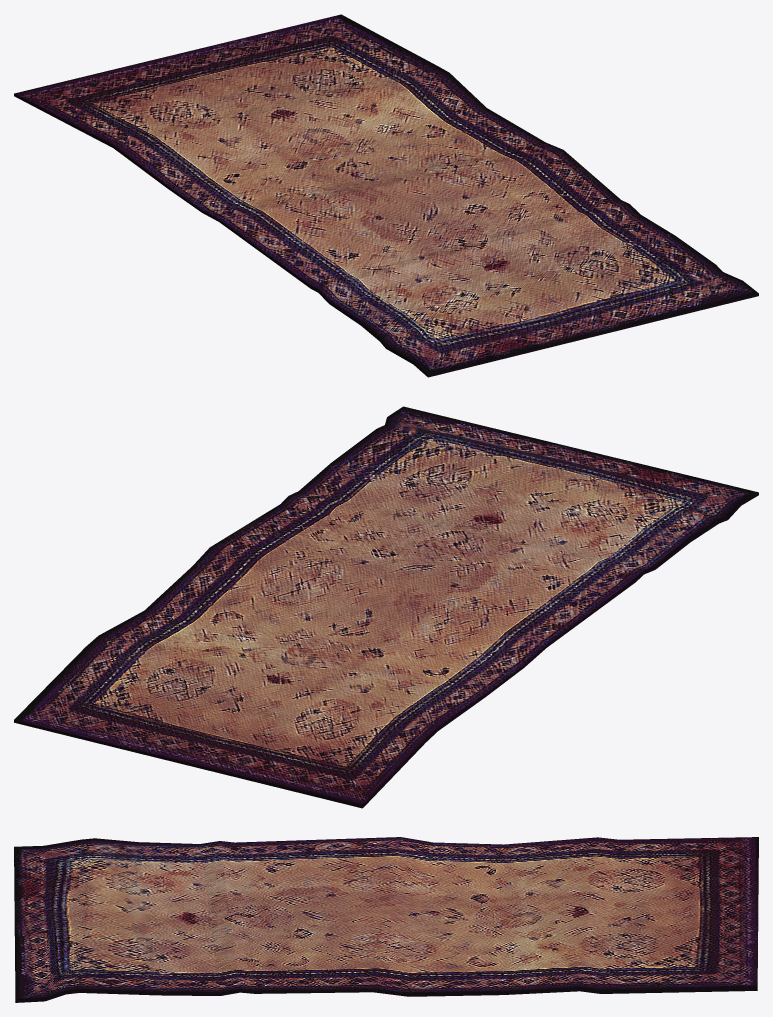
File: Rug_2_JBischer.fbx
The picture shows the model from 3 angles, top to bottom: view 1: azimuth 30°, elevation 25°; view 2: azimuth 150°, elevation 25°; view 3: azimuth 270°, elevation 25°; orthographic projection. The views are drawn at different scales.
Visible parts, largest first — view 1: Cylinder.002; view 2: Cylinder.002; view 3: Cylinder.002.
Boxes of the visible parts, left/top/right/bottom form: Cylinder.002: left=14, top=14, right=758, bottom=377; Cylinder.002: left=14, top=406, right=758, bottom=808; Cylinder.002: left=14, top=837, right=758, bottom=1002.
Size of the model in its own units: 681 by 19.73 by 1309.
